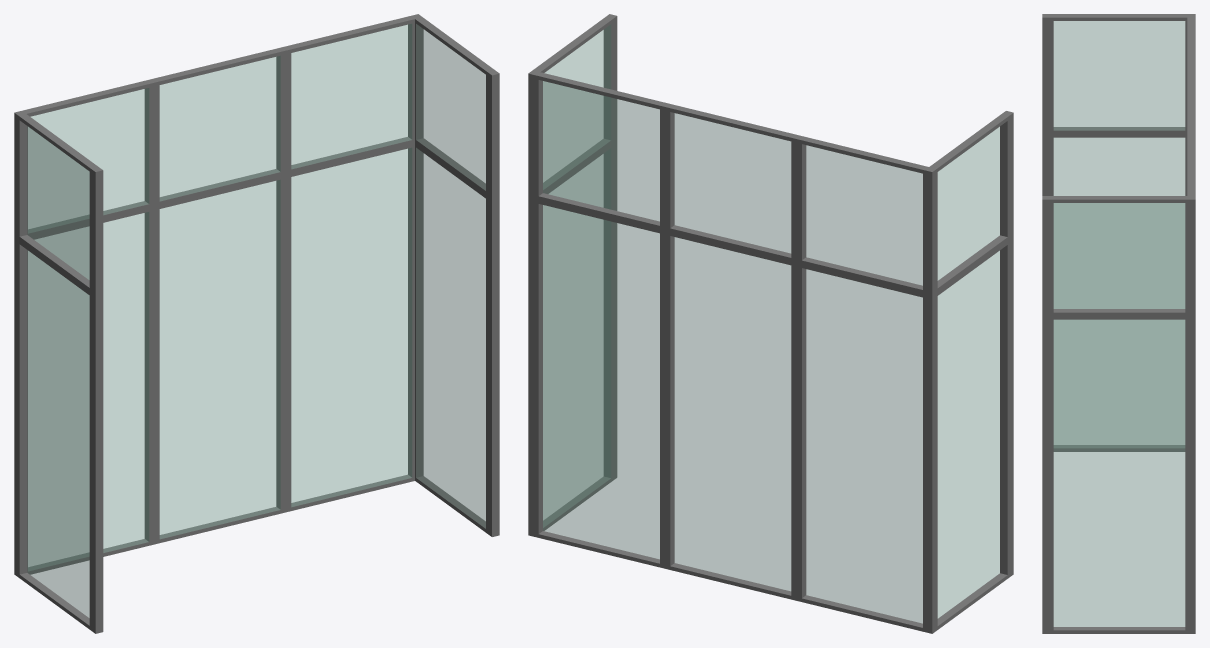
The picture shows the model from 3 angles, left to right: view 1: azimuth 30°, elevation 25°; view 2: azimuth 150°, elevation 25°; view 3: azimuth 270°, elevation 25°; orthographic projection. The views are drawn at different scales.
Visible parts, largest first — view 1: 窗001; view 2: 窗001; view 3: 窗001.
Part boxes in pixels (<box>): 窗001: <box>14,14,499,633</box>; 窗001: <box>528,14,1013,633</box>; 窗001: <box>1042,14,1195,633</box>.
Bounding box in the file's own units: 1740 × 1900 × 607.
